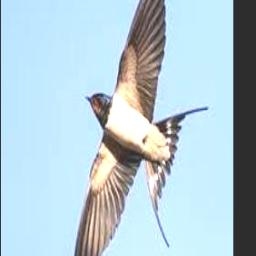Swallow: (73, 0, 209, 256)
